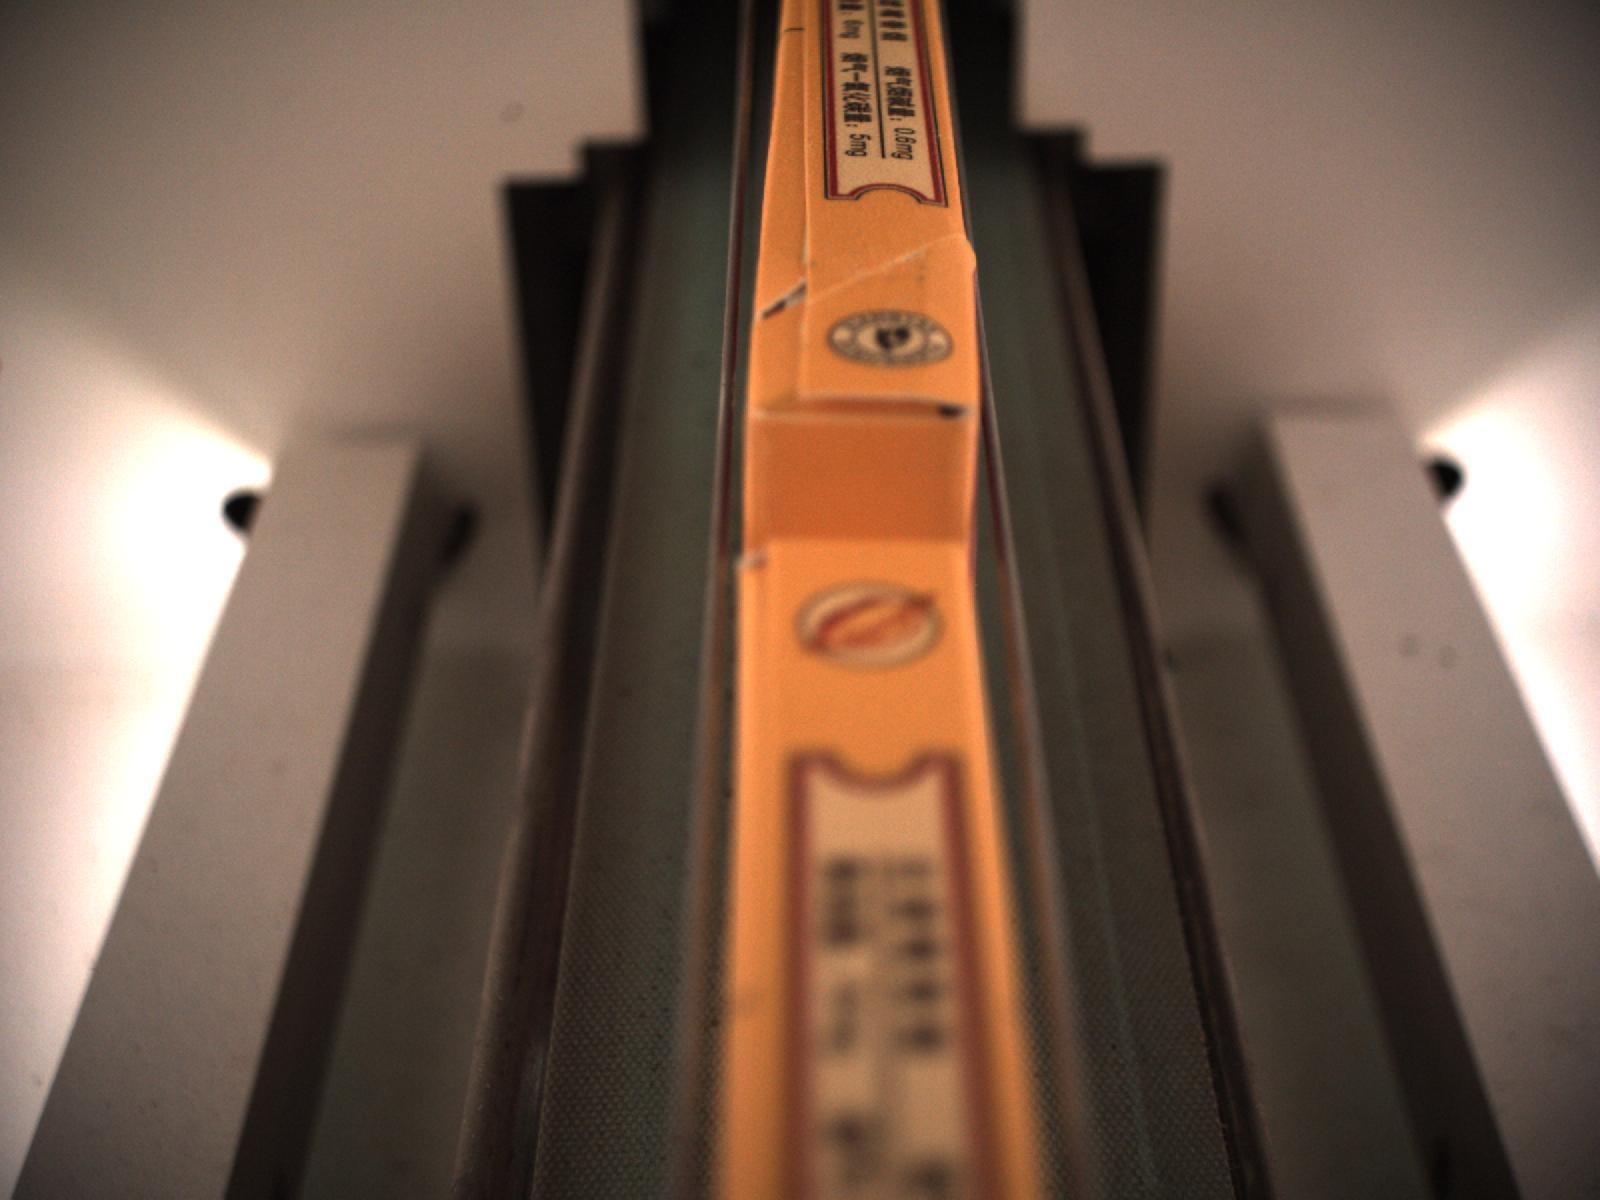headDamage_upper_2: (751, 309, 974, 429)
skewed_upper_2: (757, 14, 827, 324)
